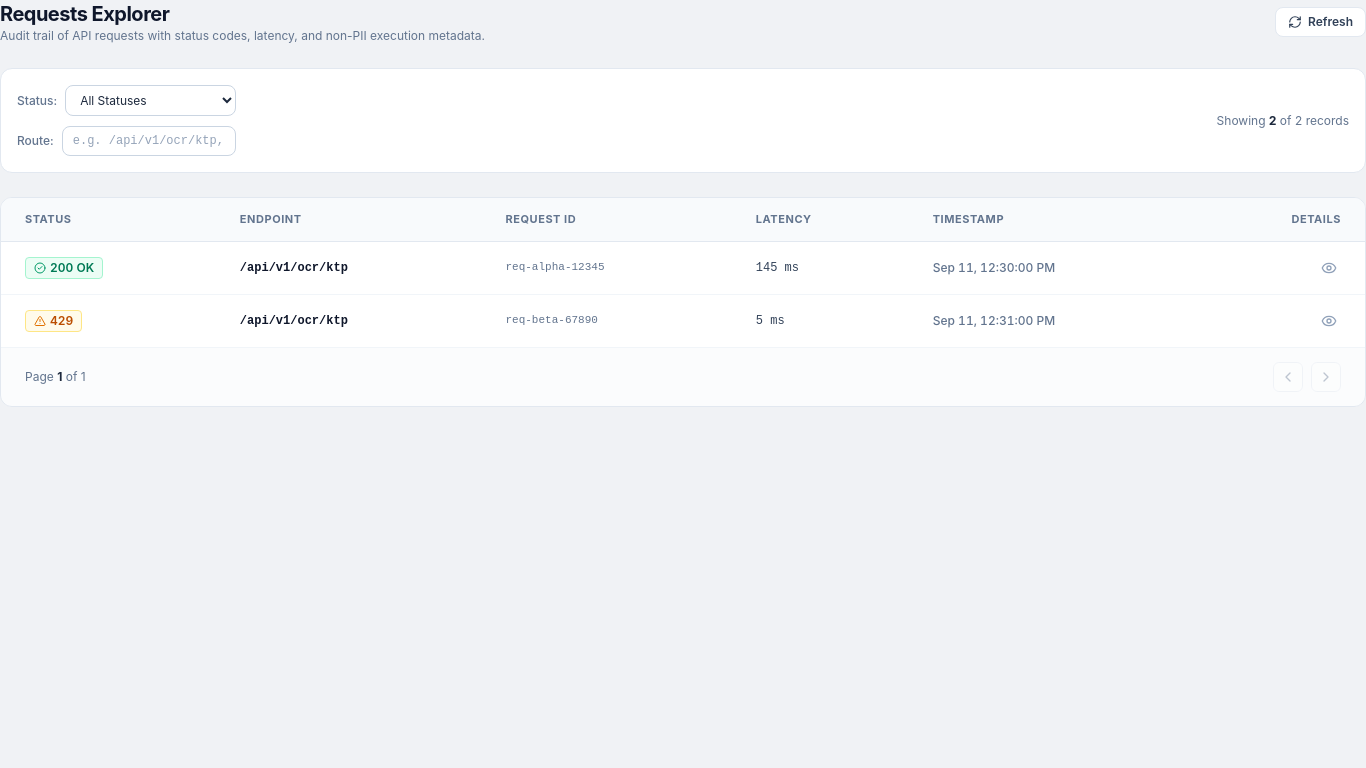
it: RequestsPage › renders request logs table with status badges and detail inspector
Expected: the text "req-alpha-12345" is shown, [482,241,732,294]
Expected: the text "145 ms" is shown, [732,241,909,294]
Click the button titled "View request details" in the row of "200": (1329, 268) [1317,256,1341,280]
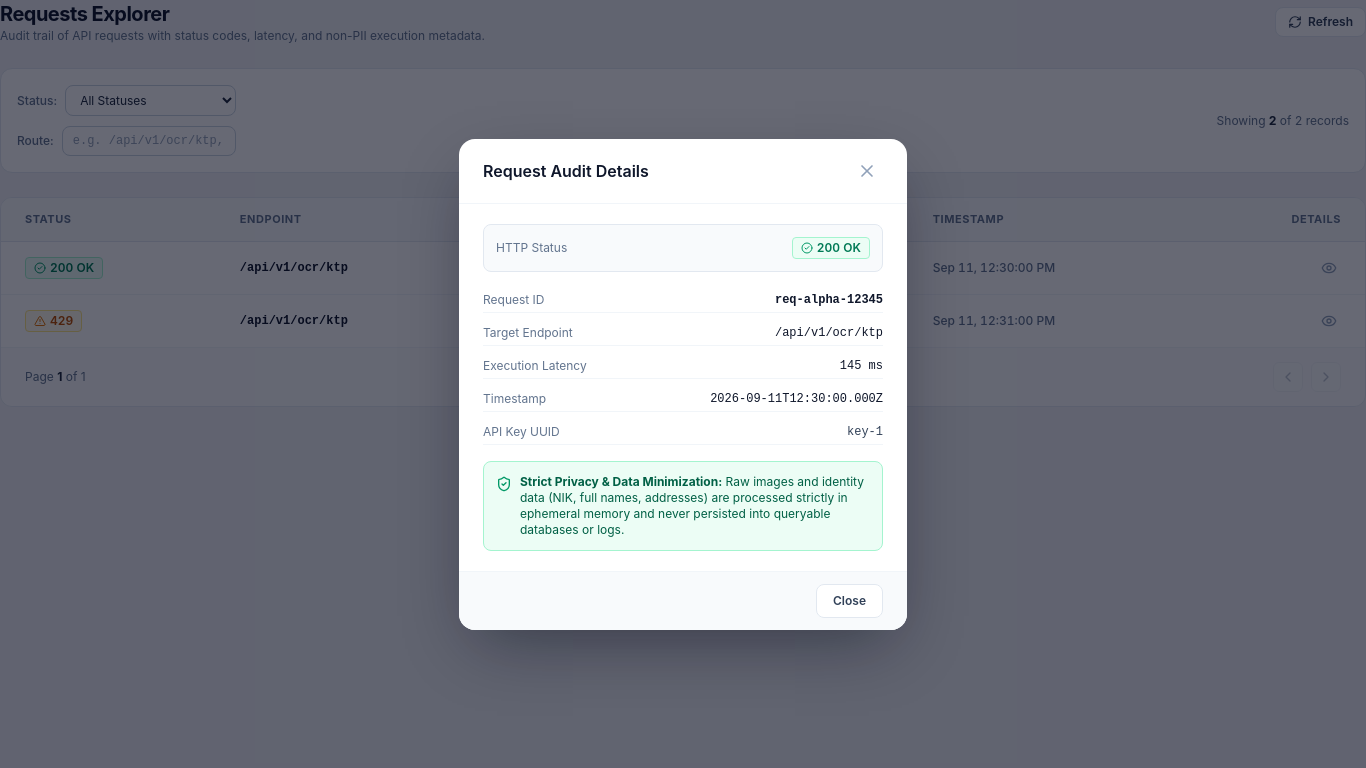
Expected: the text "req-alpha-12345" is shown 2 times, [482,241,732,294]; [775,292,883,308]
Expected: the heading "Request Audit Details" is shown, [483,158,657,182]
Note: Close modal
Click the button named "Close dialog": (867, 170) [851,154,883,186]
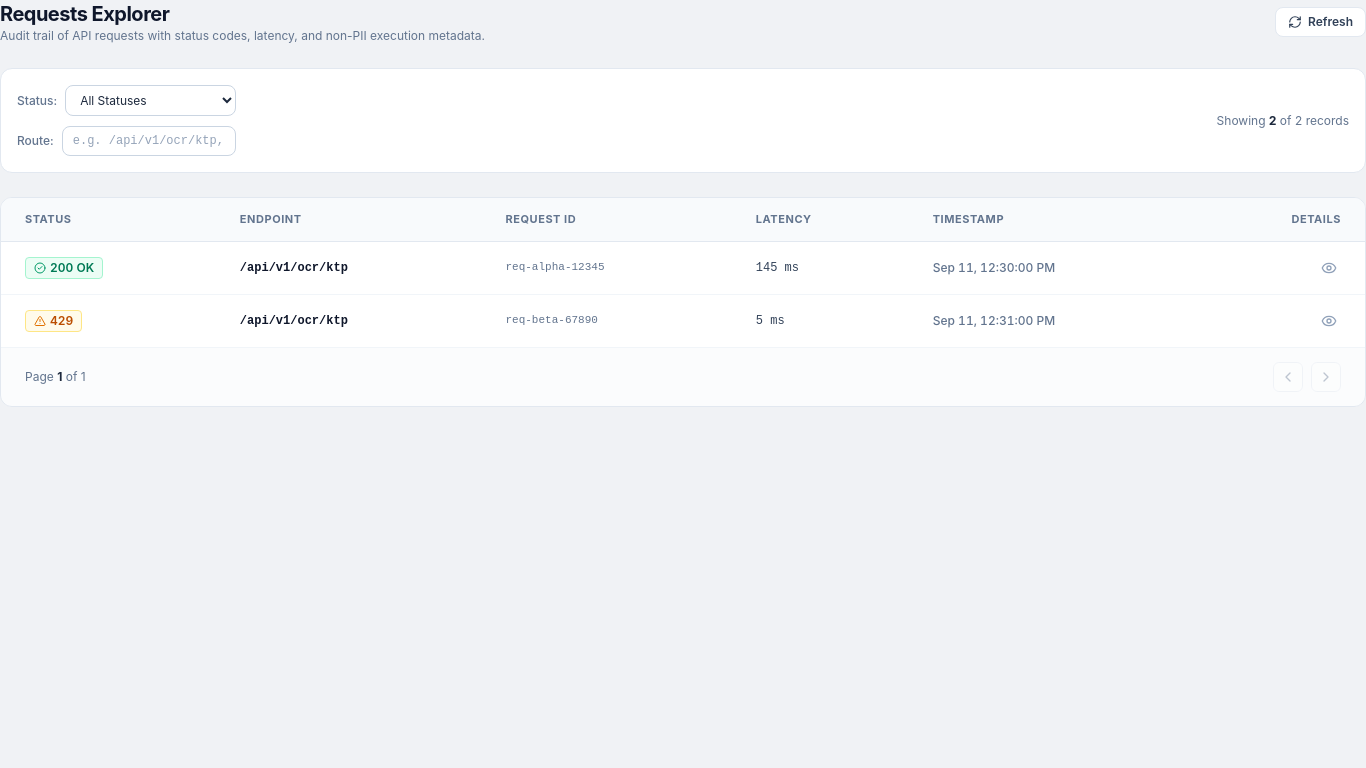
Expected: the heading "Request Audit Details" is gone
